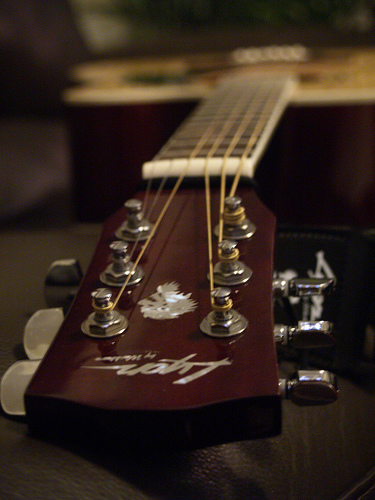guitar: (3, 46, 375, 451)
